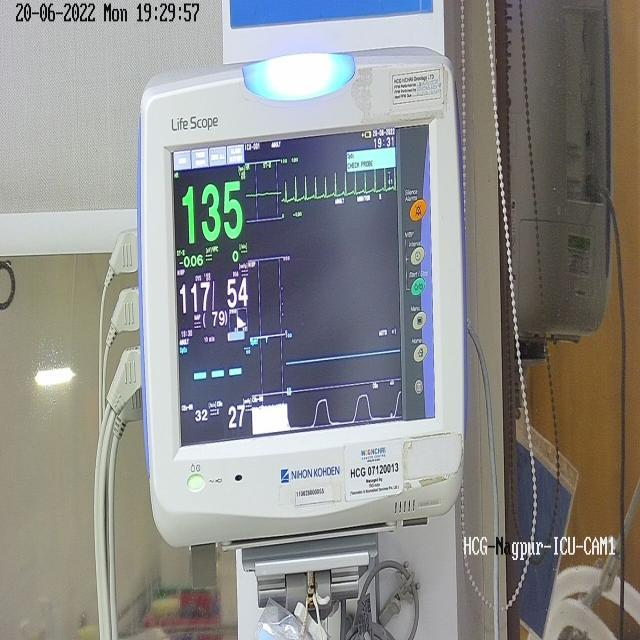Monitor: (133, 48, 467, 640)
